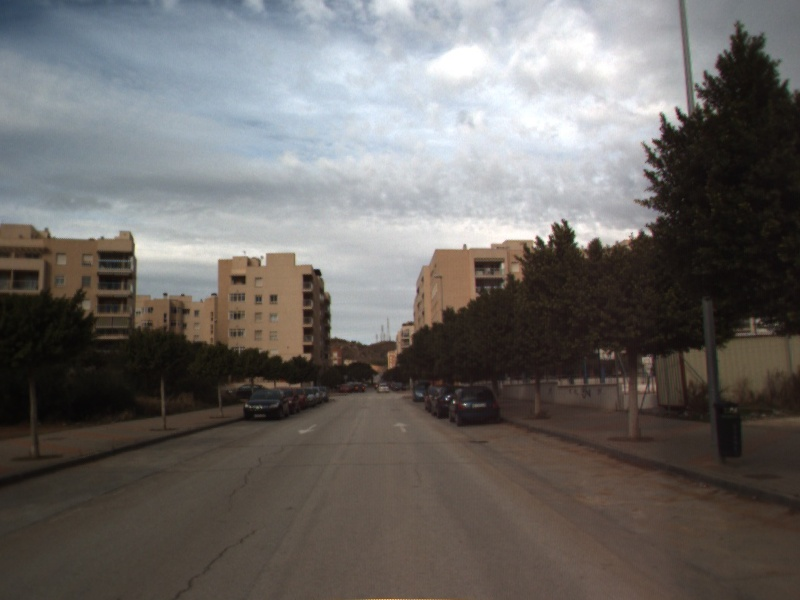STRAIGHT: (391, 420, 412, 434)
